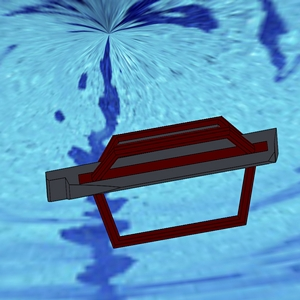submarine: (22, 81, 300, 268)
